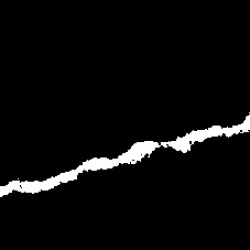crack: (2, 142, 159, 197), (162, 116, 249, 153)
